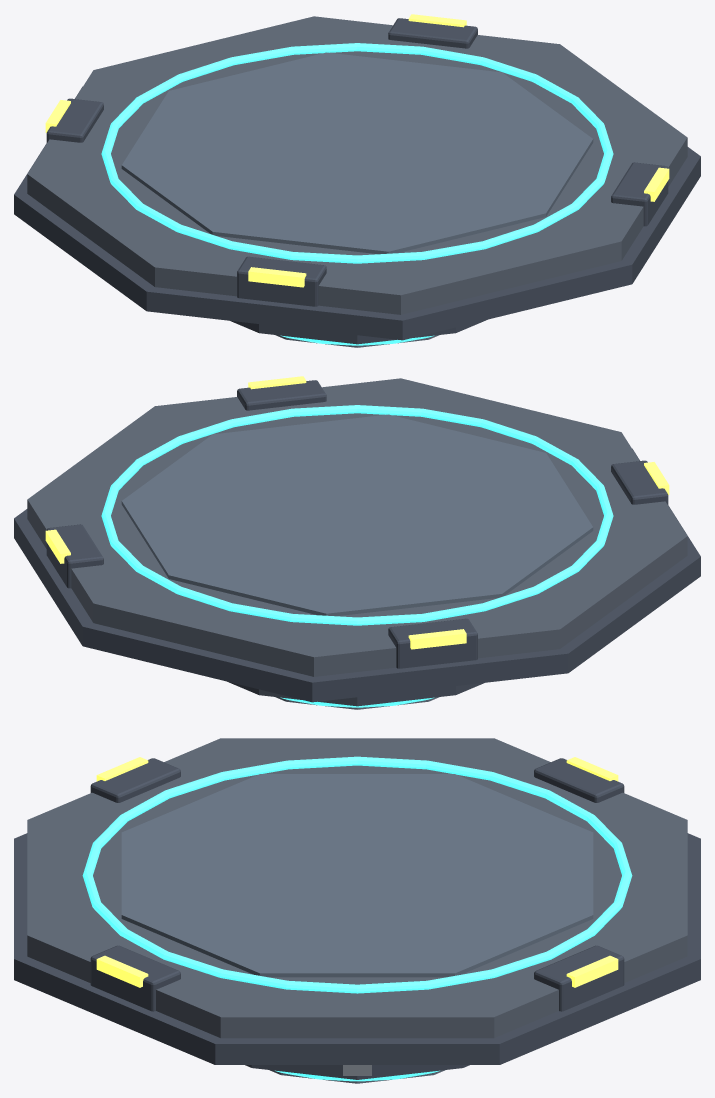
File: plataforma_salto_crio.glb
3 renders of one model, top to bottom at view 1: azimuth 30°, elevation 25°; view 2: azimuth 150°, elevation 25°; view 3: azimuth 270°, elevation 25°, orthographic. The views are drawn at different scales.
Visible parts, largest first — view 1: Deck_Centro, Deck_Base, Deck_Borde, Anillo_Guia, Bumper_2, Bumper_0, Bumper_3, Bumper_1, Turbina_Caja, Baliza_2; view 2: Deck_Centro, Deck_Base, Deck_Borde, Anillo_Guia, Bumper_1, Bumper_3, Bumper_0, Bumper_2, Turbina_Caja, Baliza_1; view 3: Deck_Centro, Deck_Base, Deck_Borde, Anillo_Guia, Bumper_0, Bumper_3, Bumper_1, Bumper_2, Turbina_Caja, Baliza_0, Baliza_3, Turbina_Cian.
Part boxes in pixels (left/top/right/bottom): Deck_Centro: left=121, top=52, right=593, bottom=254; Deck_Base: left=27, top=16, right=687, bottom=314; Deck_Borde: left=14, top=86, right=700, bottom=340; Anillo_Guia: left=101, top=43, right=613, bottom=263; Bumper_2: left=237, top=256, right=326, bottom=306; Bumper_0: left=388, top=18, right=477, bottom=48; Bumper_3: left=611, top=162, right=668, bottom=226; Bumper_1: left=46, top=98, right=103, bottom=143; Turbina_Caja: left=231, top=319, right=487, bottom=344; Baliza_2: left=248, top=267, right=306, bottom=287; Deck_Centro: left=121, top=414, right=593, bottom=616; Deck_Base: left=27, top=378, right=687, bottom=676; Deck_Borde: left=14, top=448, right=700, bottom=702; Anillo_Guia: left=101, top=405, right=613, bottom=625; Bumper_1: left=388, top=618, right=477, bottom=668; Bumper_3: left=237, top=380, right=326, bottom=410; Bumper_0: left=46, top=524, right=103, bottom=588; Bumper_2: left=611, top=460, right=668, bottom=505; Turbina_Caja: left=227, top=681, right=483, bottom=706; Baliza_1: left=408, top=629, right=466, bottom=649; Deck_Centro: left=121, top=774, right=593, bottom=977; Deck_Base: left=27, top=738, right=687, bottom=1038; Deck_Borde: left=14, top=833, right=700, bottom=1064; Anillo_Guia: left=82, top=756, right=632, bottom=993; Bumper_0: left=534, top=945, right=624, bottom=1011; Bumper_3: left=90, top=945, right=180, bottom=1011; Bumper_1: left=534, top=758, right=624, bottom=802; Bumper_2: left=90, top=758, right=180, bottom=802; Turbina_Caja: left=245, top=1065, right=469, bottom=1079; Baliza_0: left=566, top=955, right=618, bottom=987; Baliza_3: left=96, top=955, right=148, bottom=987; Turbina_Cian: left=275, top=1070, right=439, bottom=1081.
Size of the model in its own units: 4.71 by 1.15 by 4.71.
